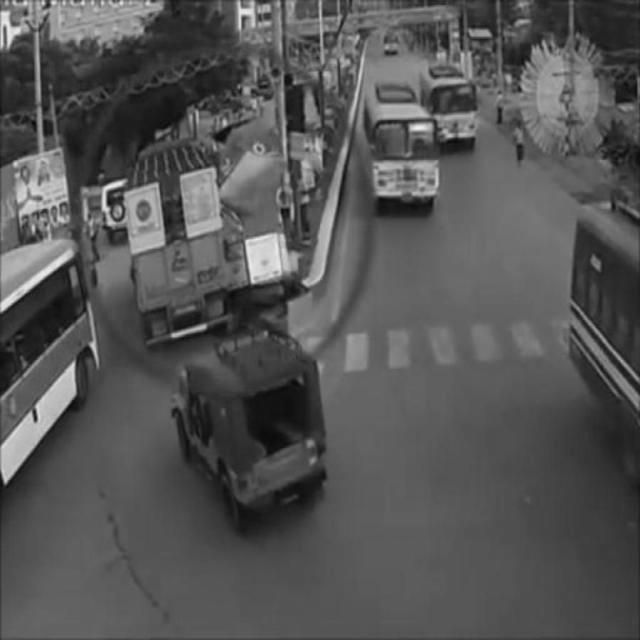accident: (126, 144, 300, 338)
person: (513, 122, 528, 167)
vehicle: (168, 341, 326, 521), (367, 95, 440, 213), (424, 71, 478, 149)
